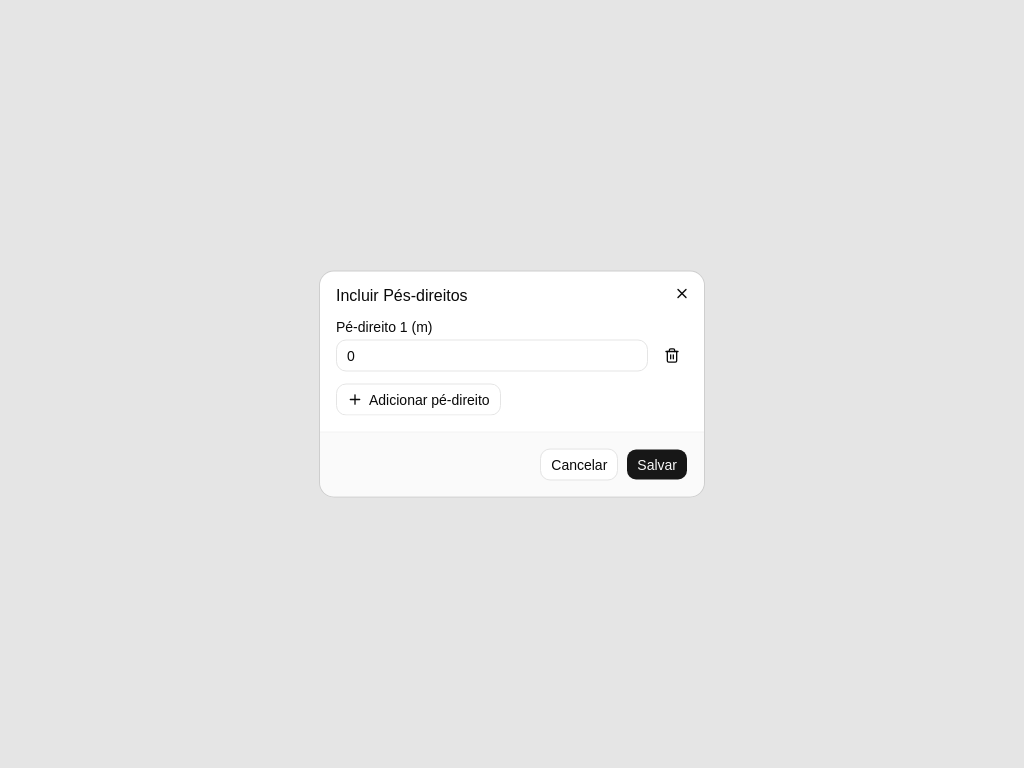
Test case: ModalPesDireitos (UC10/UC11-FE) › não submete com valor 0 (positive > 0) e exibe erro inline
Click the button "Salvar": [657, 464] box [626,448,688,480]
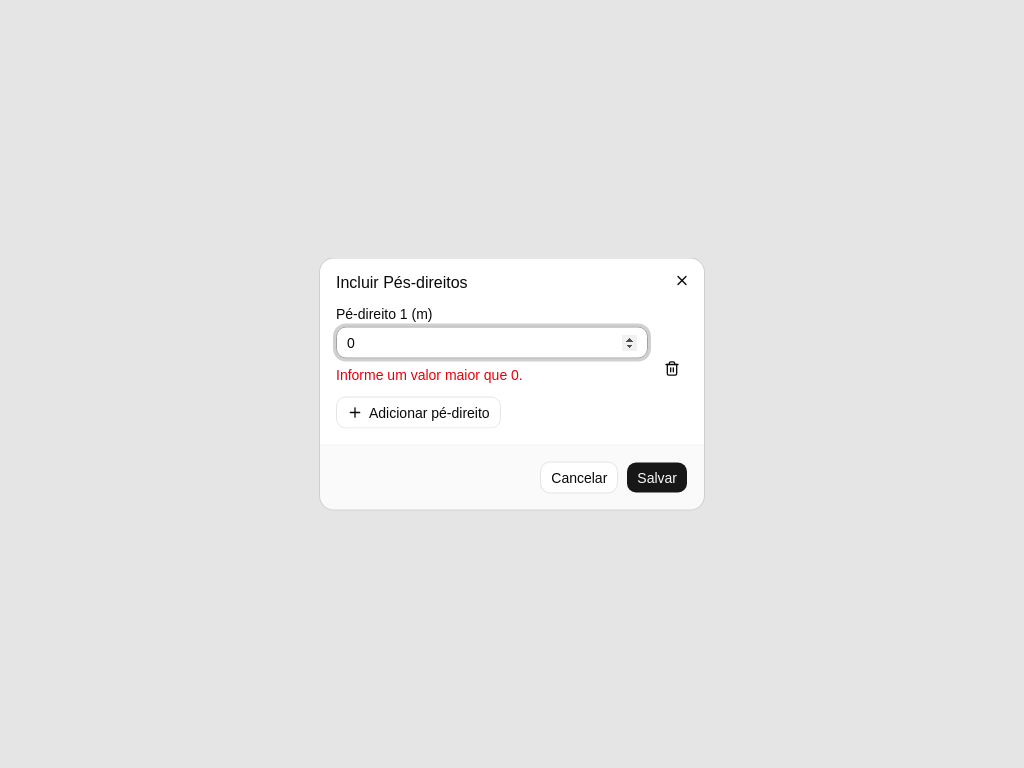
expect the message "Informe um valor maior que 0." is shown: met, box [336,366,523,382]
